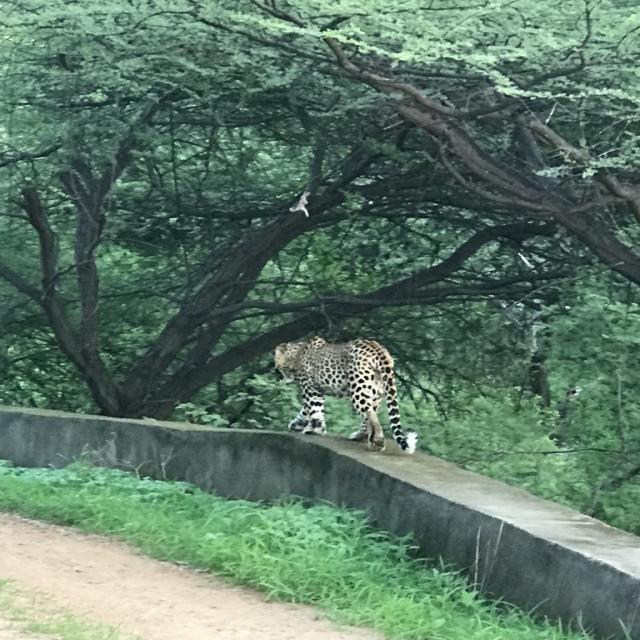Leopard: (272, 337, 415, 456)
